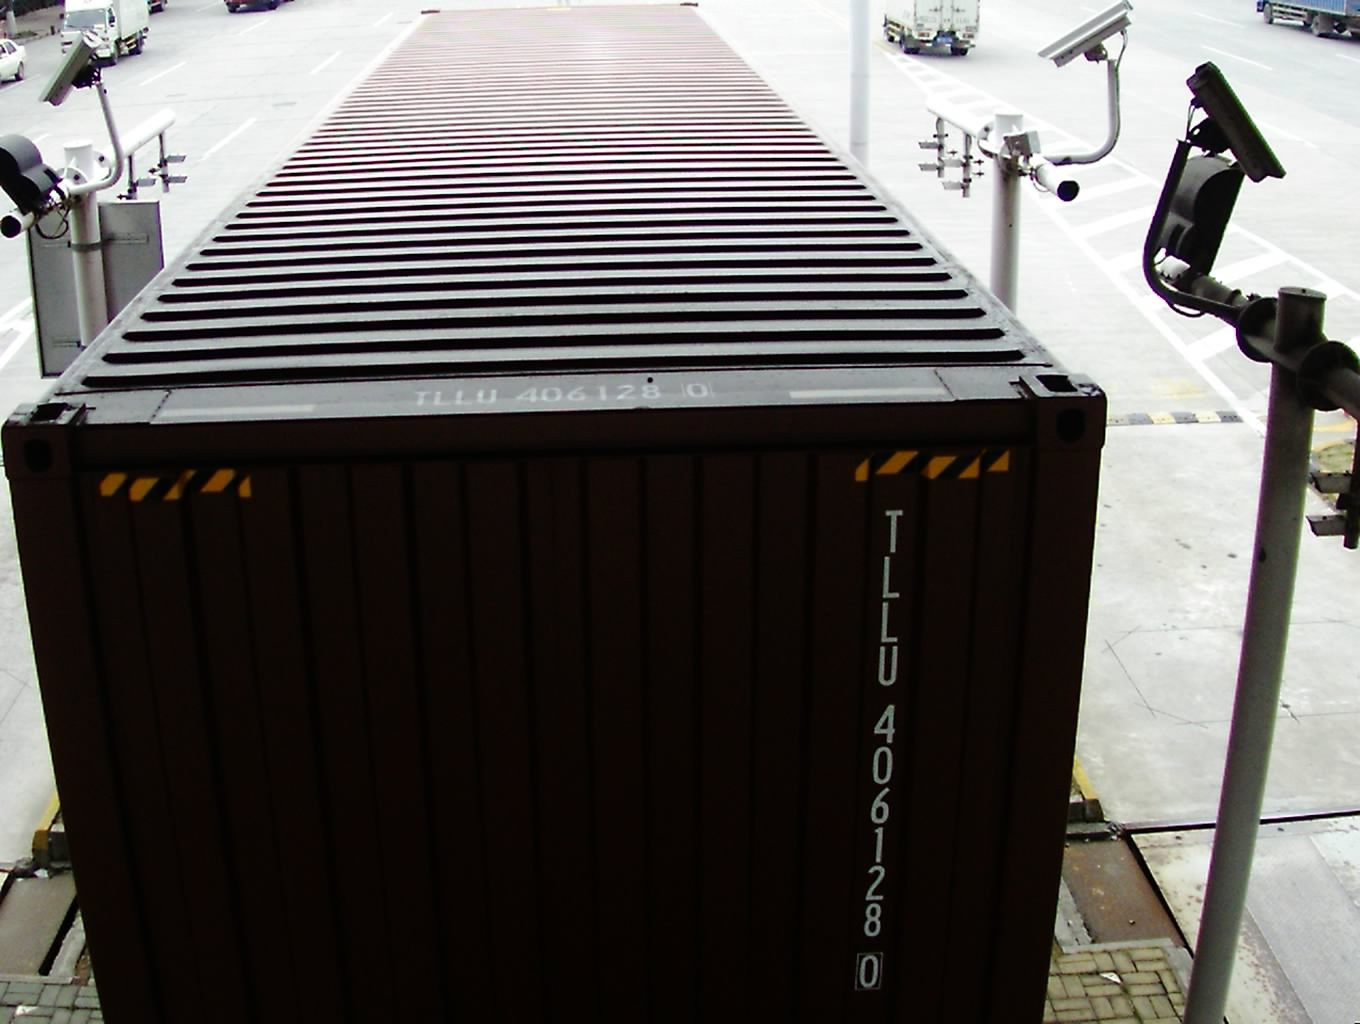words: (859, 500, 912, 994)
